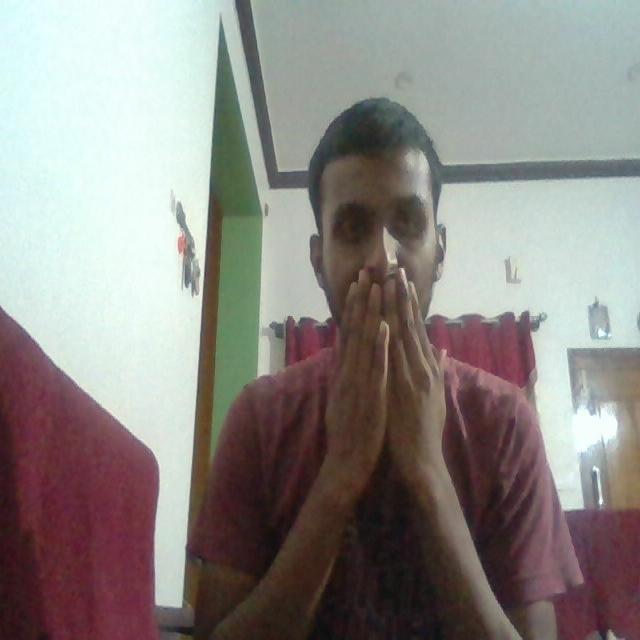thanks: (322, 277, 455, 507)
